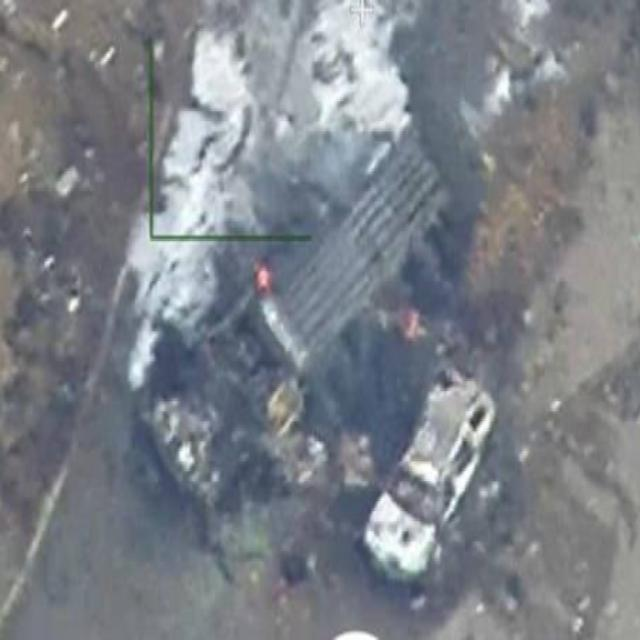CAR: (358, 359, 498, 592)
MLRS: (140, 130, 448, 520)
